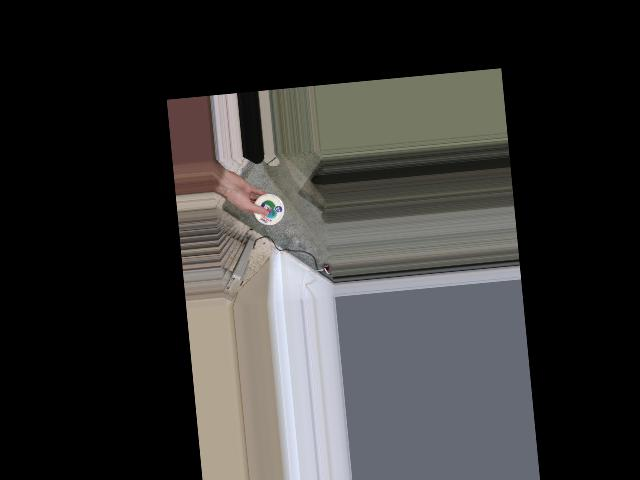cotage: (252, 193, 283, 225)
